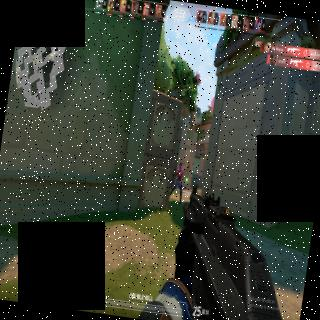ENEMY-BODY: (171, 161, 186, 205)
ENEMY-HEAD: (178, 162, 182, 169)
